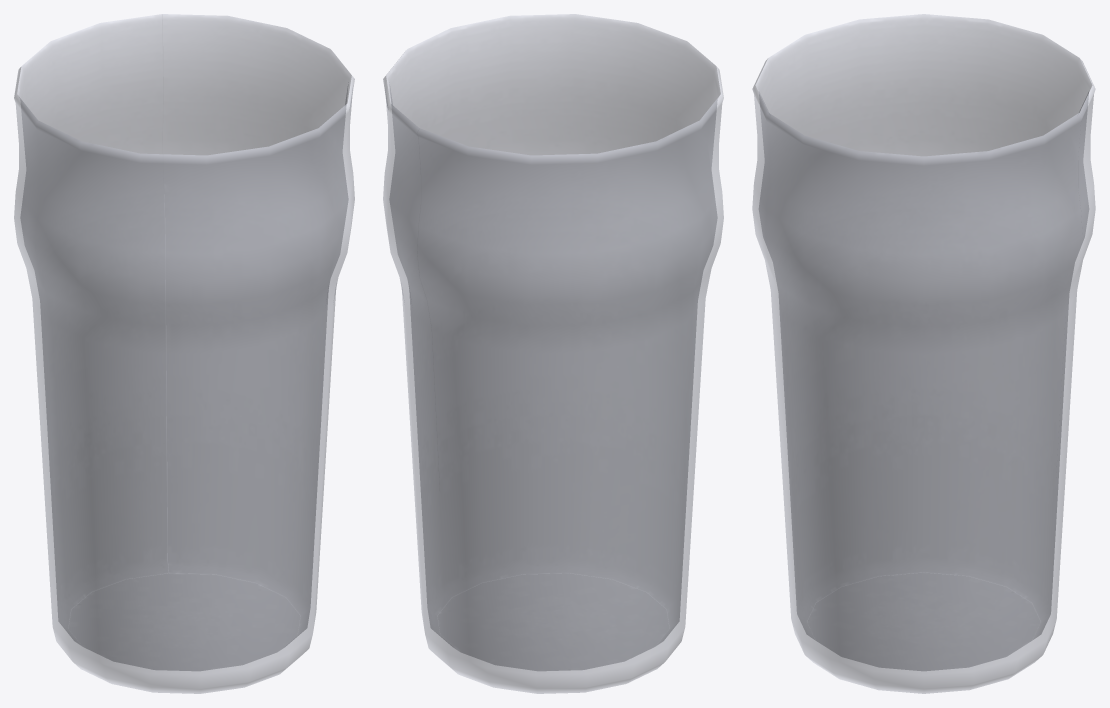
File: SM_Pint_Glass_01.glb
The picture shows the model from 3 angles, left to right: view 1: azimuth 30°, elevation 25°; view 2: azimuth 150°, elevation 25°; view 3: azimuth 270°, elevation 25°; orthographic projection.
Parts seen in each view (by area): view 1: SM_Pint_Glass_01; view 2: SM_Pint_Glass_01; view 3: SM_Pint_Glass_01.
Part boxes in pixels (x1=…): SM_Pint_Glass_01: x1=14, y1=14, x2=354, y2=693; SM_Pint_Glass_01: x1=383, y1=14, x2=723, y2=693; SM_Pint_Glass_01: x1=752, y1=14, x2=1095, y2=693.
Bounding box in the file's own units: 0.0917 × 0.1644 × 0.0917.
1 material, 1 textured.
